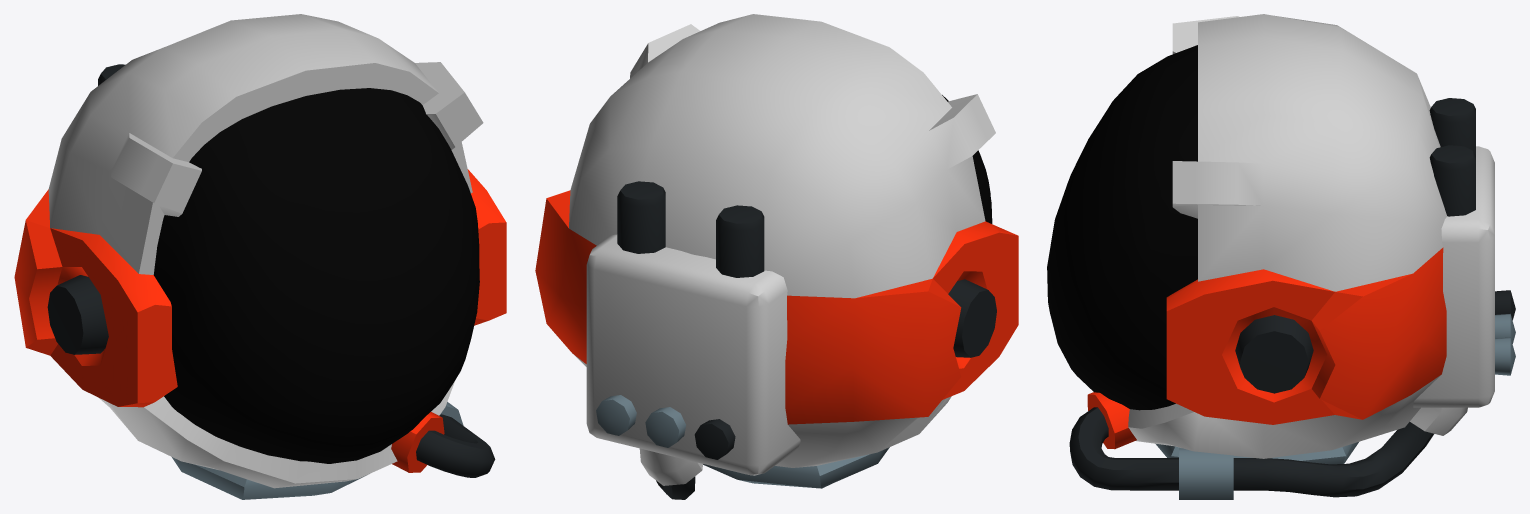
File: helmet_B_visor_opaque.obj
3 renders of one model, left to right at view 1: azimuth 30°, elevation 25°; view 2: azimuth 150°, elevation 25°; view 3: azimuth 270°, elevation 25°, orthographic. The views are drawn at different scales.
Parts seen in each view (by area): view 1: helmet_B_visor_opaque_Roundcube.109; view 2: helmet_B_visor_opaque_Roundcube.109; view 3: helmet_B_visor_opaque_Roundcube.109.
Boxes of the visible parts, x1=… form: helmet_B_visor_opaque_Roundcube.109: x1=14, y1=14, x2=506, y2=499; helmet_B_visor_opaque_Roundcube.109: x1=535, y1=14, x2=1018, y2=499; helmet_B_visor_opaque_Roundcube.109: x1=1047, y1=14, x2=1515, y2=499.
Bounding box in the file's own units: 1.36 × 1.39 × 1.39.
